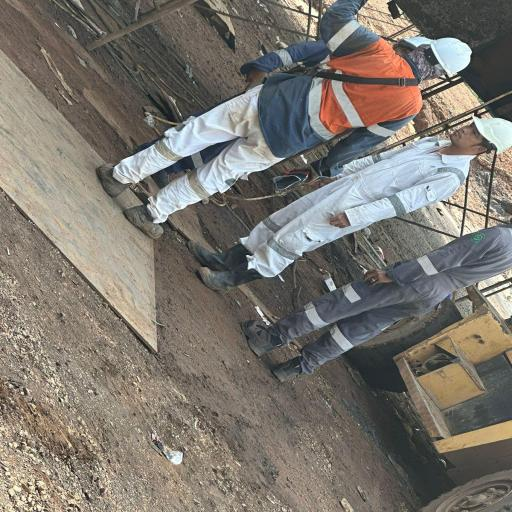safety_shoe: (190, 234, 255, 272), (196, 260, 261, 298), (125, 202, 168, 242), (94, 156, 134, 198), (243, 318, 281, 355), (269, 356, 299, 384)
